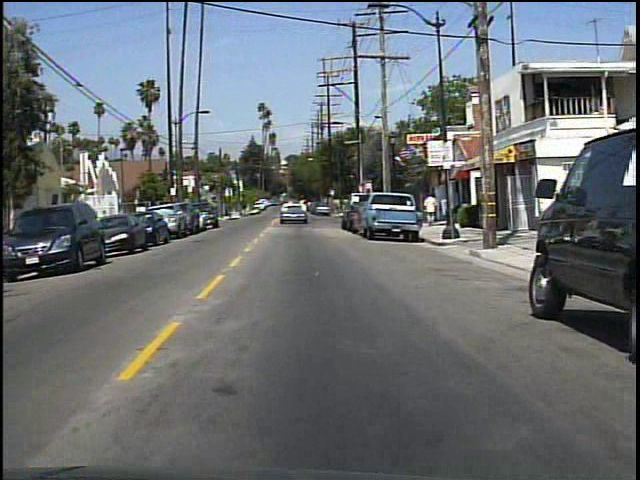person: (423, 190, 442, 230)
